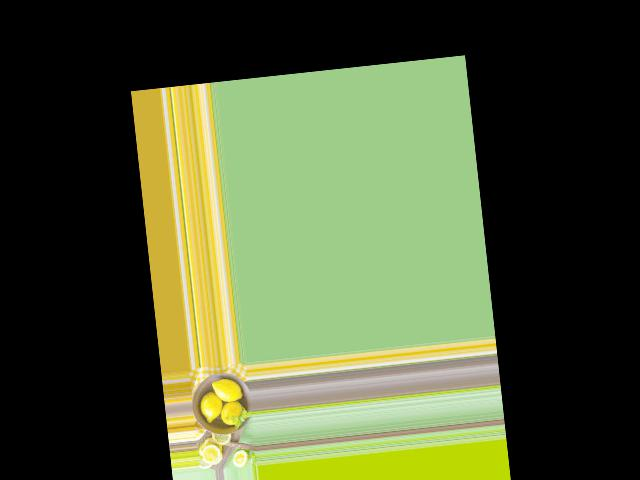lemon: (209, 373, 246, 406)
